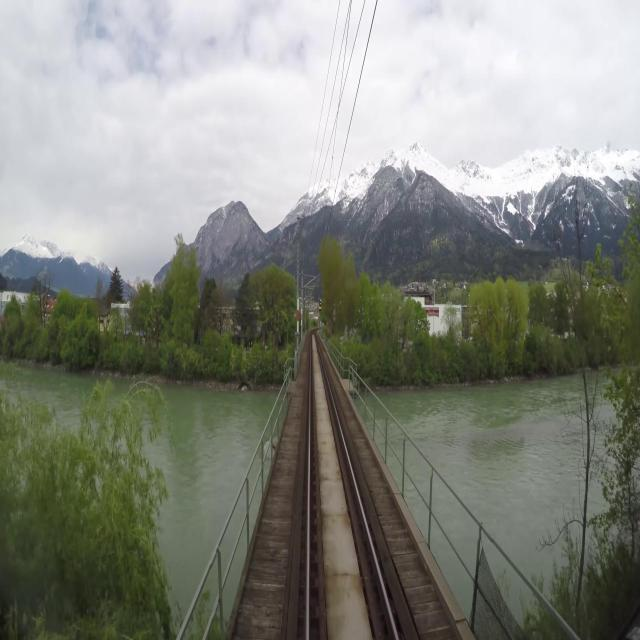rail-track: (309, 332, 394, 639)
